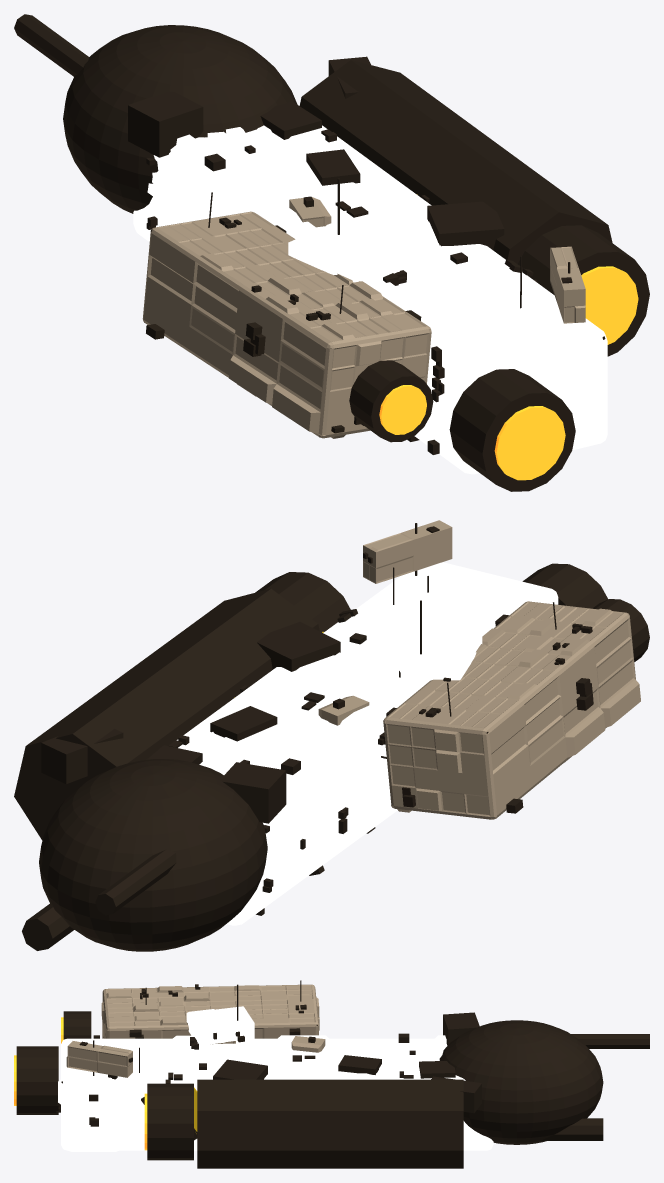
Rendered from raxxan_cruiser.glb.
The picture shows the model from 3 angles, top to bottom: view 1: azimuth 30°, elevation 25°; view 2: azimuth 150°, elevation 25°; view 3: azimuth 270°, elevation 25°; orthographic projection. The views are drawn at different scales.
Parts seen in each view (by area): view 1: raxxan_cruiser; view 2: raxxan_cruiser; view 3: raxxan_cruiser.
Part boxes in pixels (bbox=[...]): raxxan_cruiser: bbox=[14, 14, 649, 491]; raxxan_cruiser: bbox=[14, 520, 649, 951]; raxxan_cruiser: bbox=[14, 980, 649, 1168].
Bounding box in the file's own units: 4.6 × 2.3 × 10.
